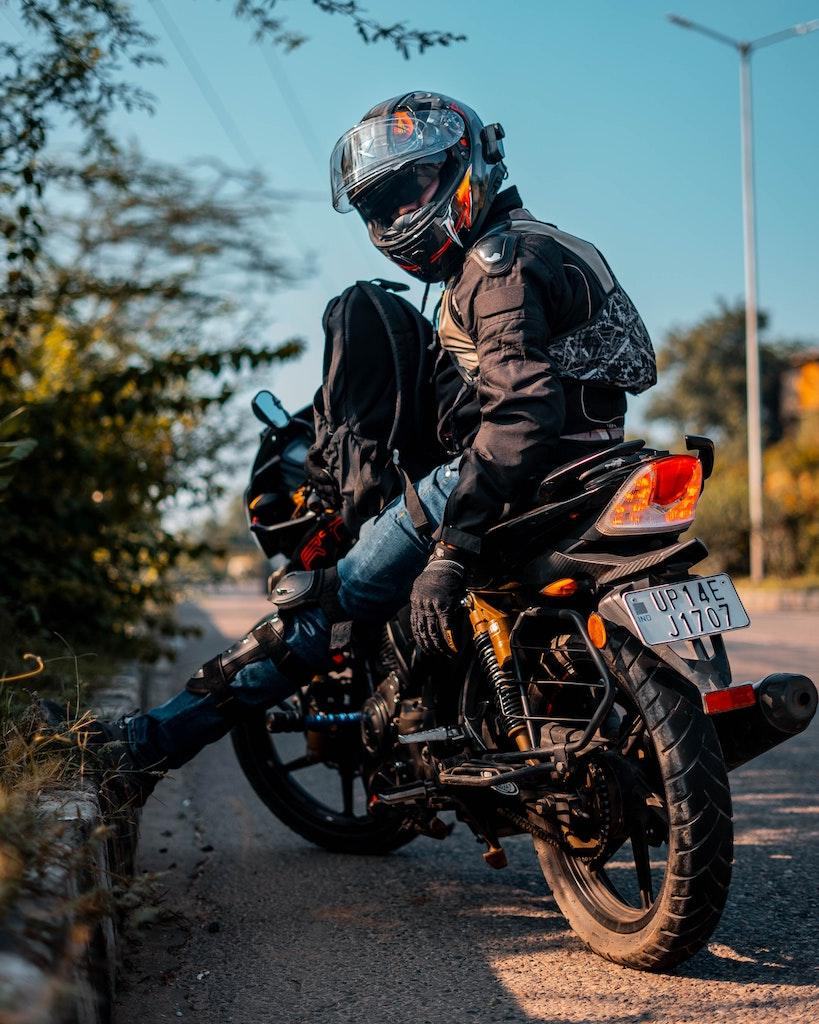helmet: (328, 89, 510, 285)
